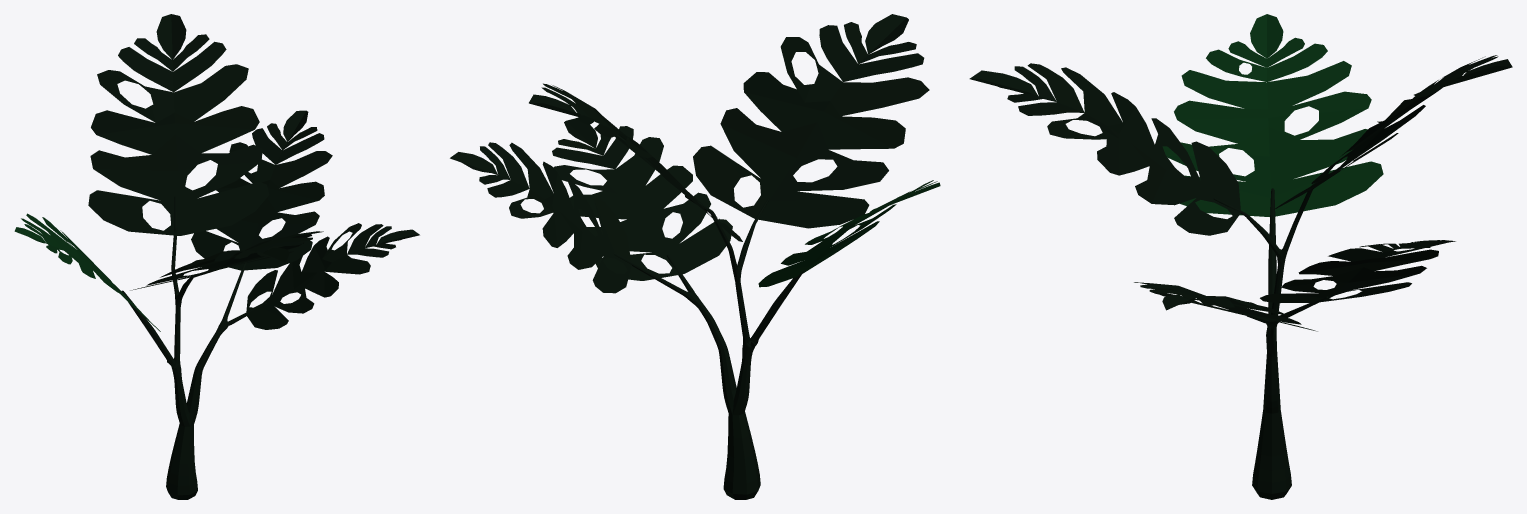
The picture shows the model from 3 angles, left to right: view 1: azimuth 30°, elevation 25°; view 2: azimuth 150°, elevation 25°; view 3: azimuth 270°, elevation 25°; orthographic projection. The views are drawn at different scales.
Parts seen in each view (by area): view 1: lp_Plane_109_Plane_005; view 2: lp_Plane_109_Plane_005; view 3: lp_Plane_109_Plane_005.
Part boxes in pixels (<box>): lp_Plane_109_Plane_005: <box>14,14,419,499</box>; lp_Plane_109_Plane_005: <box>450,14,940,499</box>; lp_Plane_109_Plane_005: <box>969,14,1512,499</box>.
Bounding box in the file's own units: 9.82 × 10.12 × 10.29.
